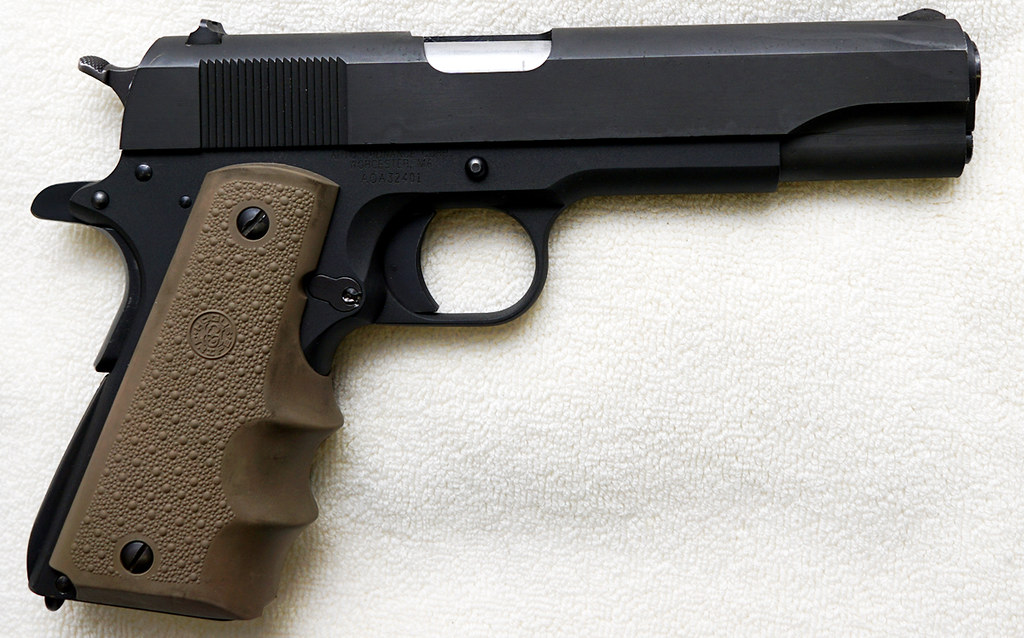gun: (20, 6, 989, 623)
